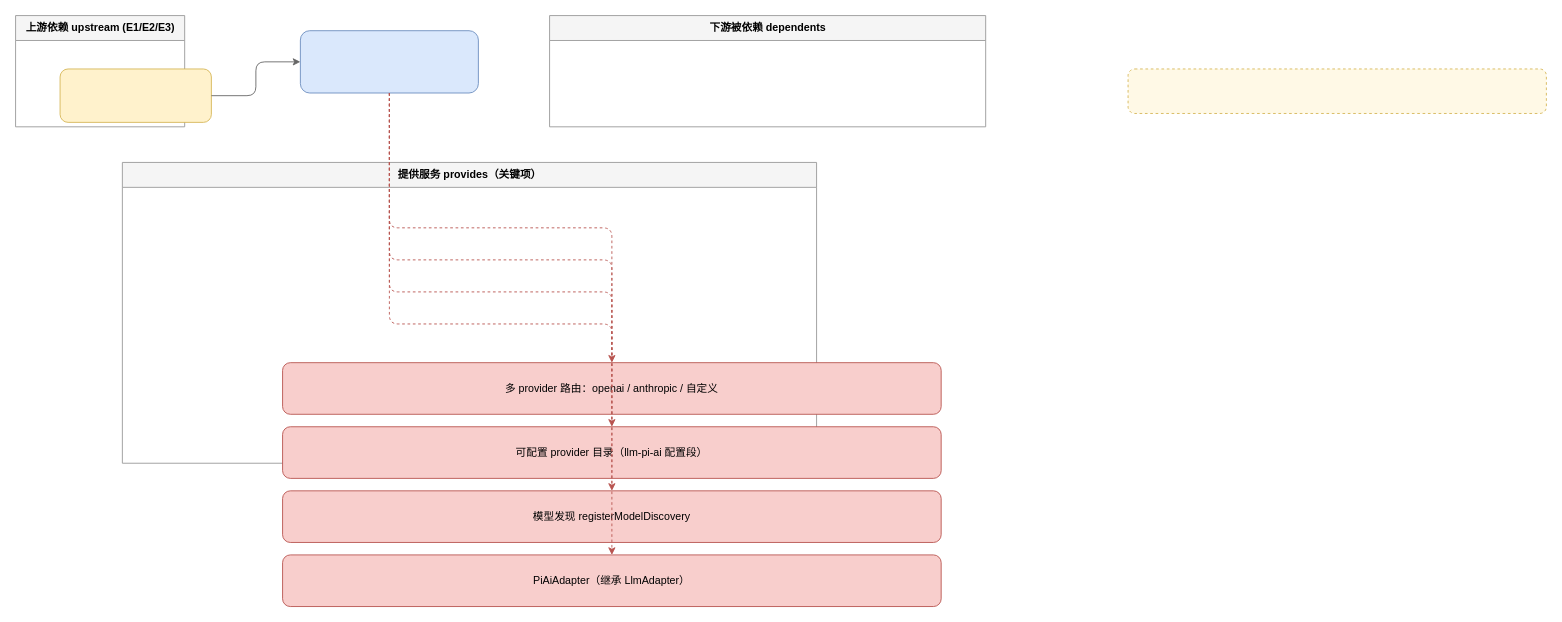
This 1562x622 diagram has some shape labels left out. The shapes that lost their labels are listed below. From the top down, each one's centre as x and y in pixels, then its label:
(388,61): @deepseek-ai/dsh-llm-pi-ai
(135,95): dsh-llm (E2)
(1336,90): (无被依赖)
